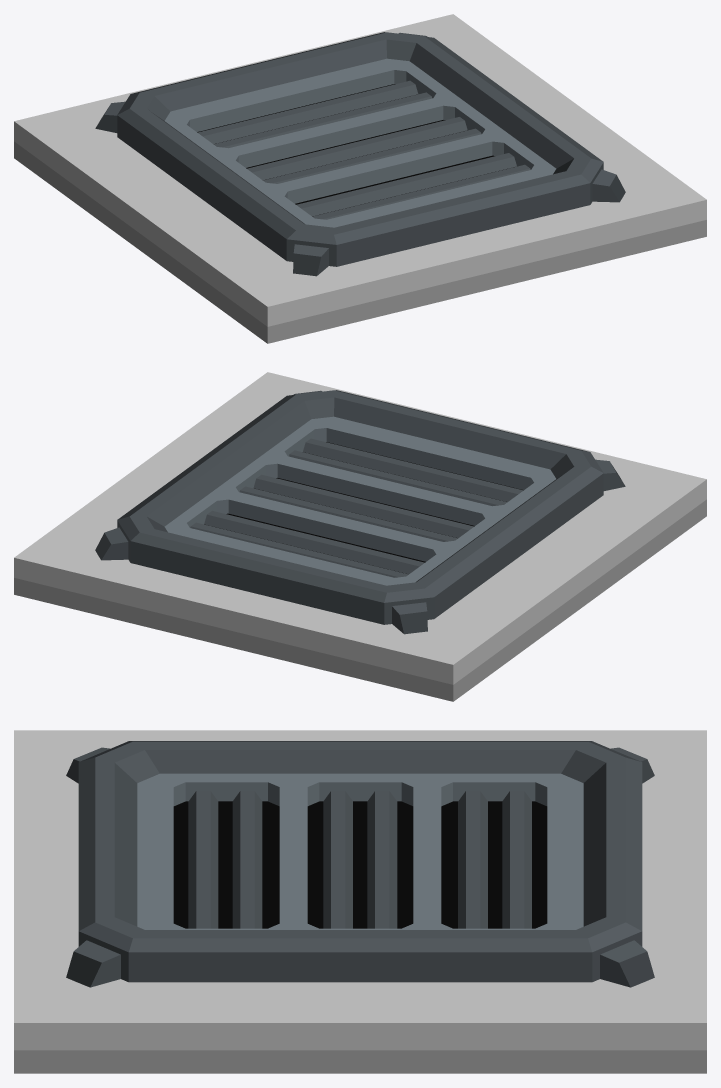
File: SM_Bld_Floor_Small_02.fbx
3 views of the same model, one above another, from view 1: azimuth 30°, elevation 25°; view 2: azimuth 150°, elevation 25°; view 3: azimuth 270°, elevation 25° (orthographic). The views are drawn at different scales.
Visible parts, largest first — view 1: SM_Bld_Floor_Small_02; view 2: SM_Bld_Floor_Small_02; view 3: SM_Bld_Floor_Small_02.
Boxes of the visible parts, x1,y1,x2,y2 form: SM_Bld_Floor_Small_02: [14, 14, 706, 343]; SM_Bld_Floor_Small_02: [14, 372, 706, 701]; SM_Bld_Floor_Small_02: [14, 730, 706, 1073].
Size of the model in its own units: 125 by 17.38 by 125.
